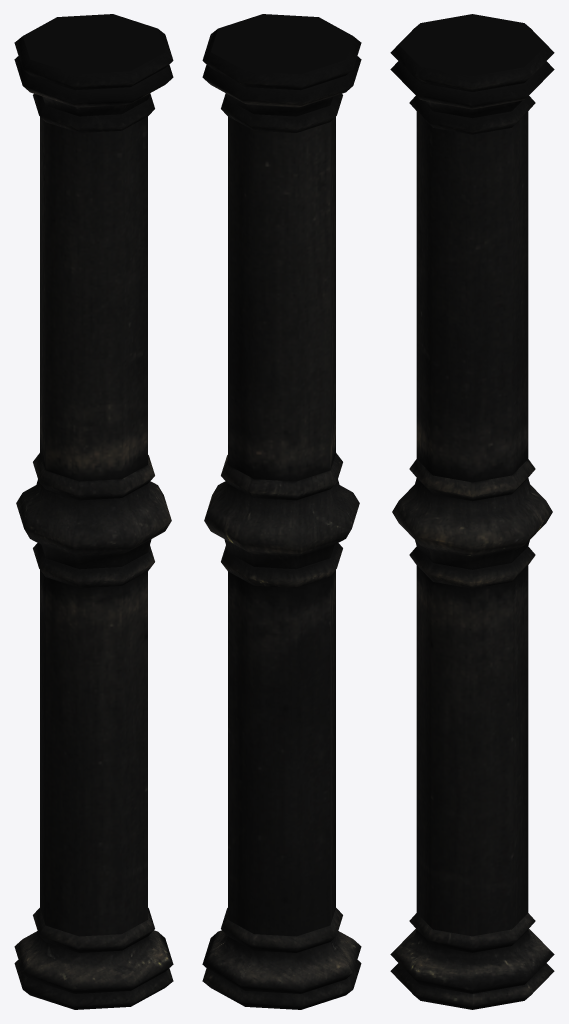
The model's file is pillar02_rotten.dae.
3 renders of one model, left to right at view 1: azimuth 30°, elevation 25°; view 2: azimuth 150°, elevation 25°; view 3: azimuth 270°, elevation 25°, orthographic.
Visible parts, largest first — view 1: pillar02; view 2: pillar02; view 3: pillar02.
Boxes of the visible parts, x1,y1,x2,y2 form: pillar02: (14,14,173,1009); pillar02: (202,14,361,1009); pillar02: (390,14,554,1009).
Size of the model in its own units: 0.638 by 4 by 0.638.
